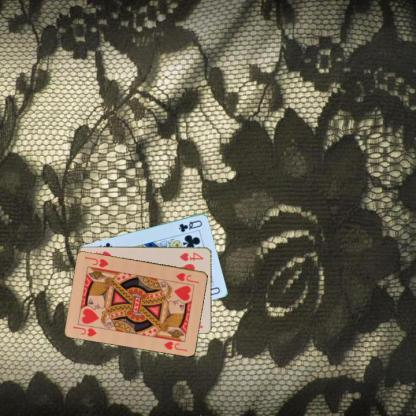4h: (178, 250, 204, 262)
Jh: (173, 270, 200, 285), (71, 323, 98, 337)
Qc: (176, 217, 204, 233)
